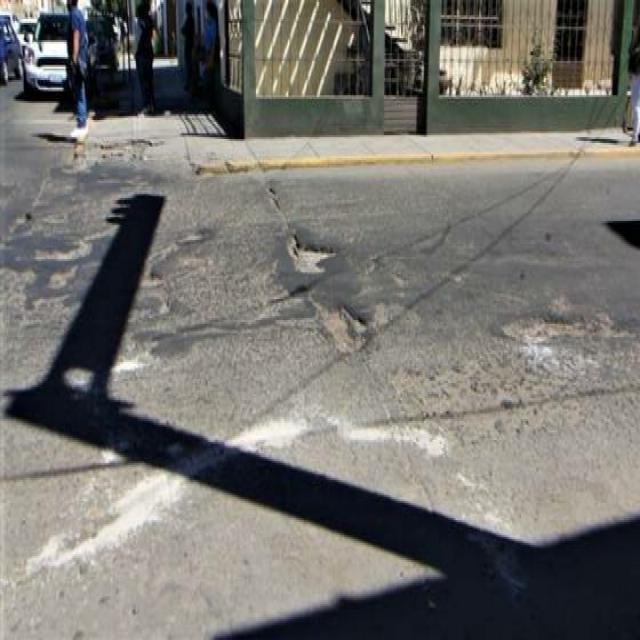pothole: (236, 225, 383, 423), (481, 303, 636, 376)
